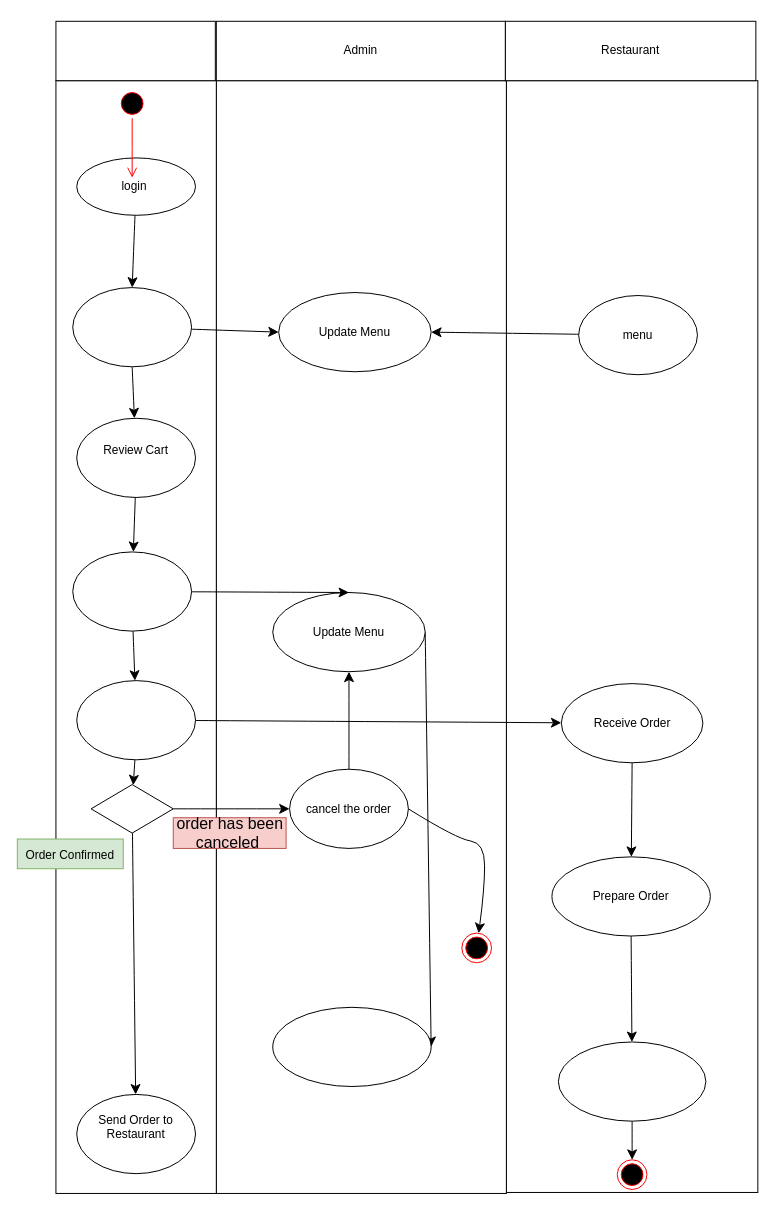
The diagram is 775 pixels wide and 1211 high, and some of its shapes have lost their labels. The shapes that lost their labels are listed below. From the top down, each one's box as (x1, y1, x2, y2) in pixels, then its label:
(55, 20, 215, 81): Customer
(72, 287, 192, 367): Browse Menu
(72, 551, 192, 631): add to cart
(76, 680, 196, 760): Select Payment Method
(272, 1006, 431, 1087): Monitor Order
(557, 1041, 706, 1121): Mark as Ready
